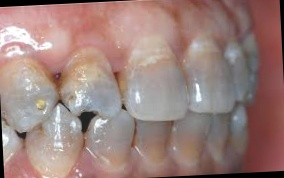Tooth Discoloration: (0, 27, 264, 174)
